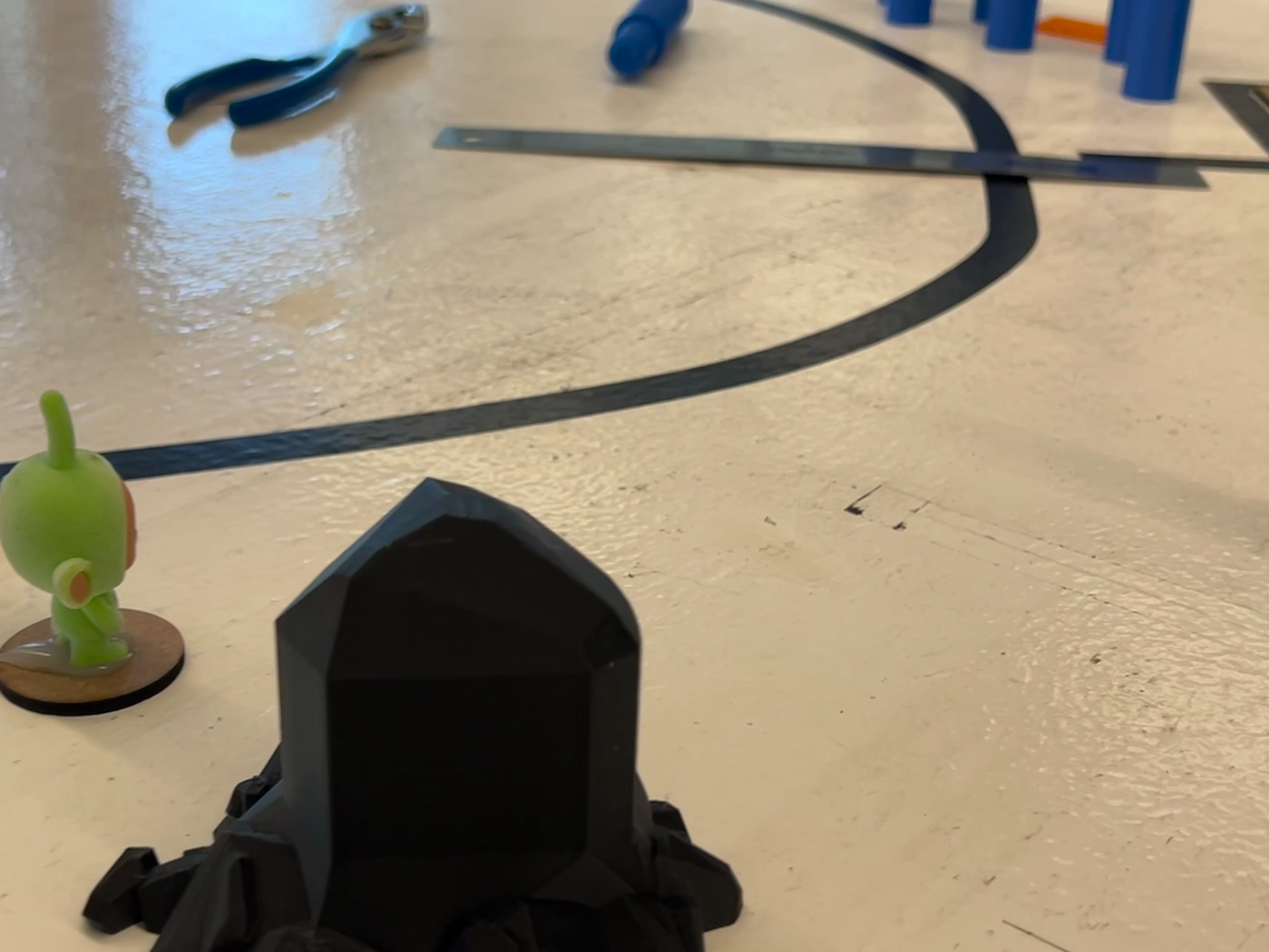teletubby: (0, 390, 137, 672)
